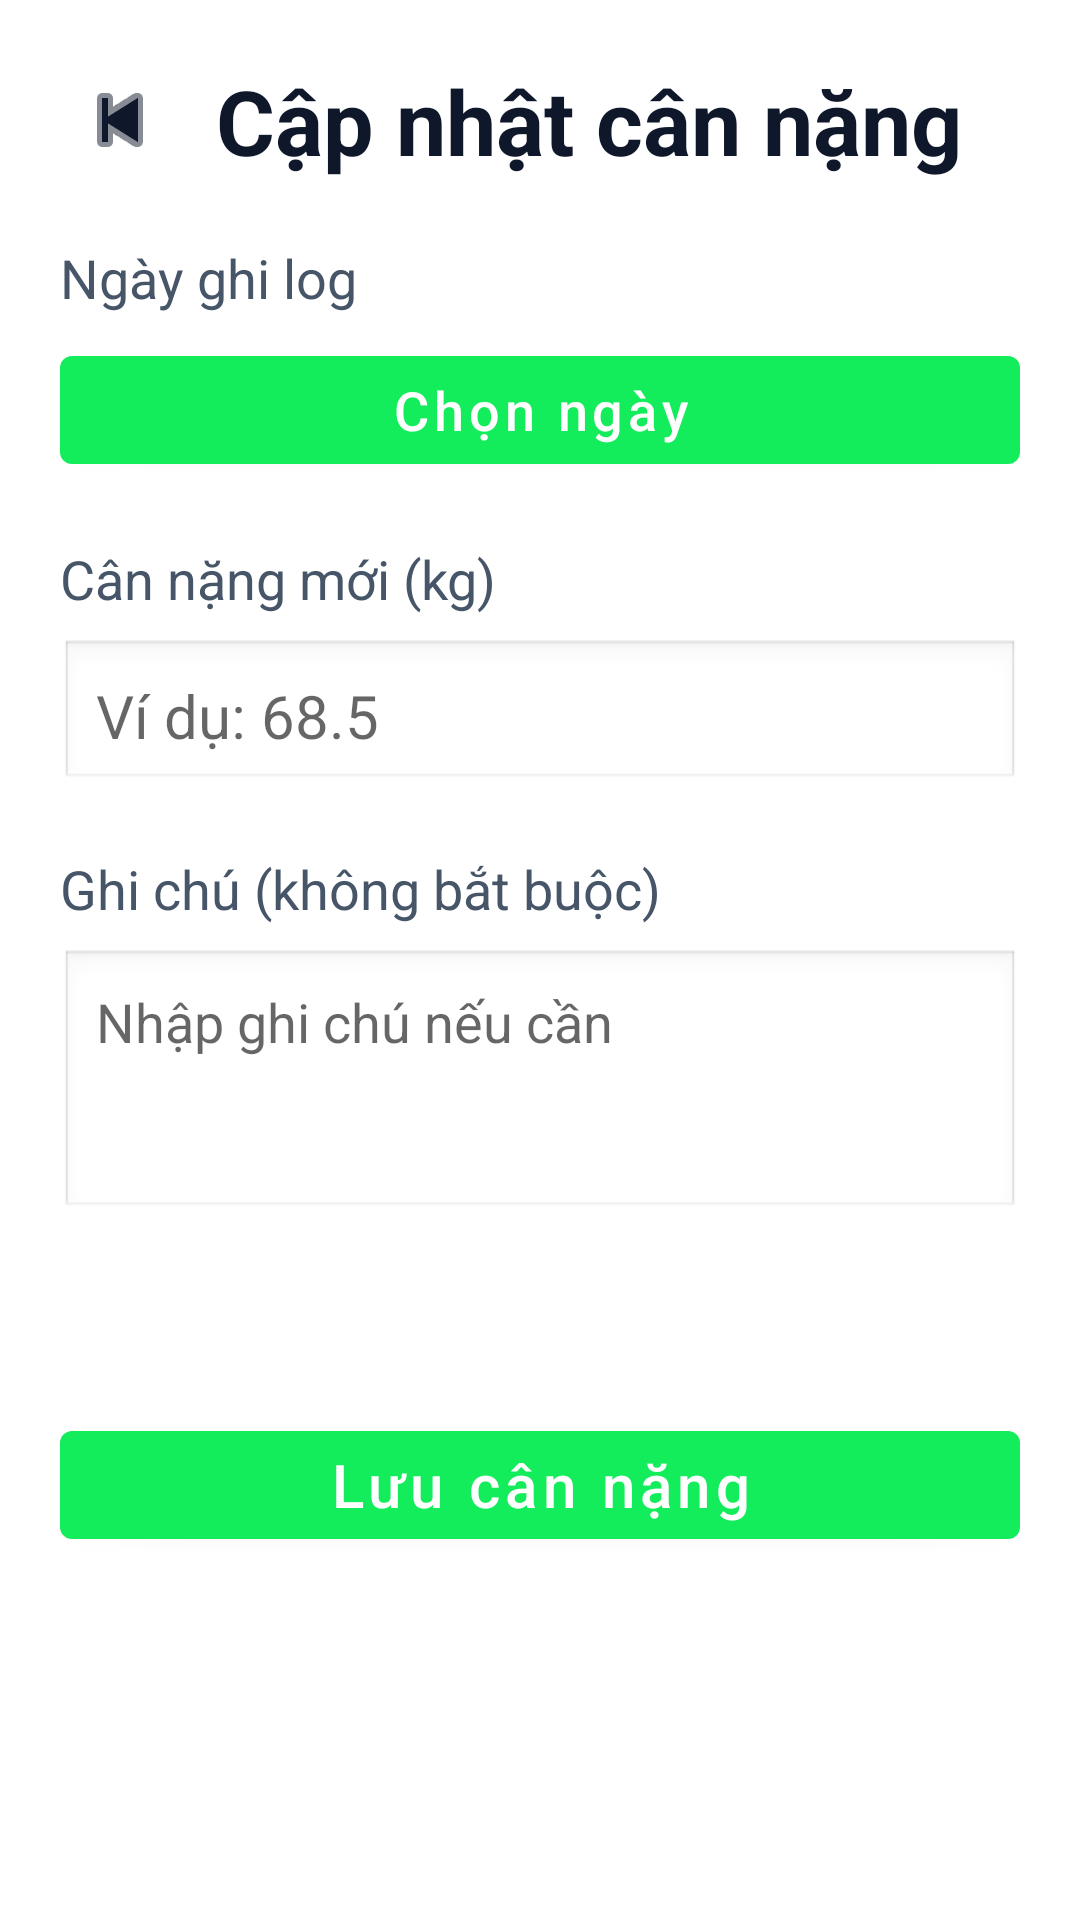

Icon click points for this 1080×1920 phone screenshot, format (x=x, y=y):
Quay lại: (x=120, y=120)
